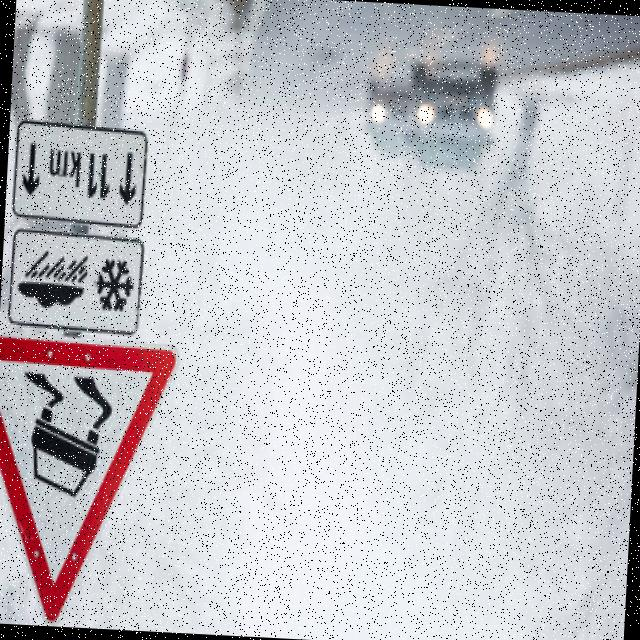road_slippery: (0, 330, 179, 632)
